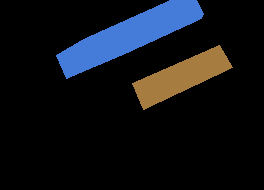parkingspot: (56, 0, 203, 78), (132, 45, 232, 109)
